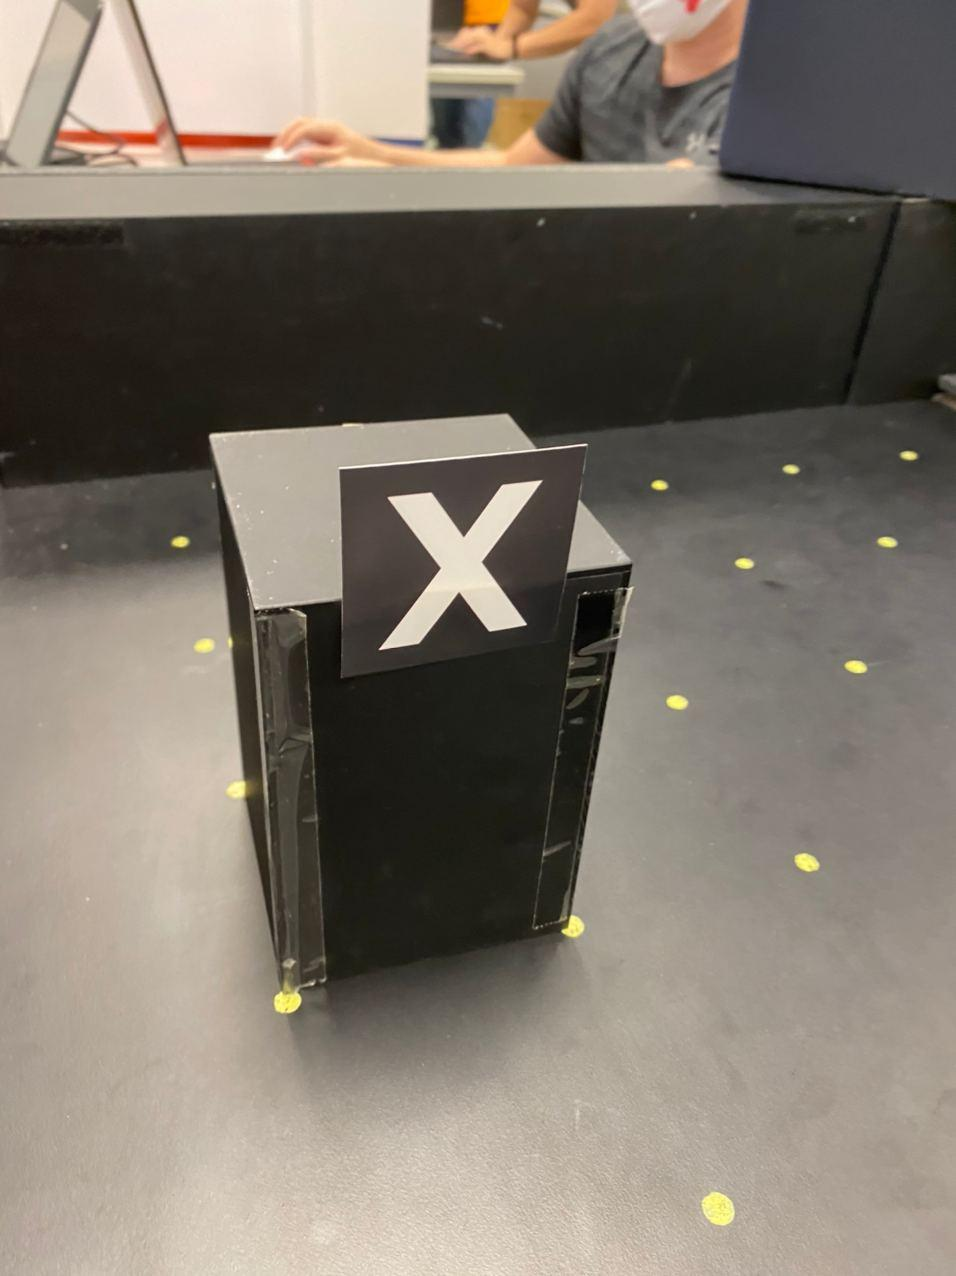x: (374, 478, 556, 651)
